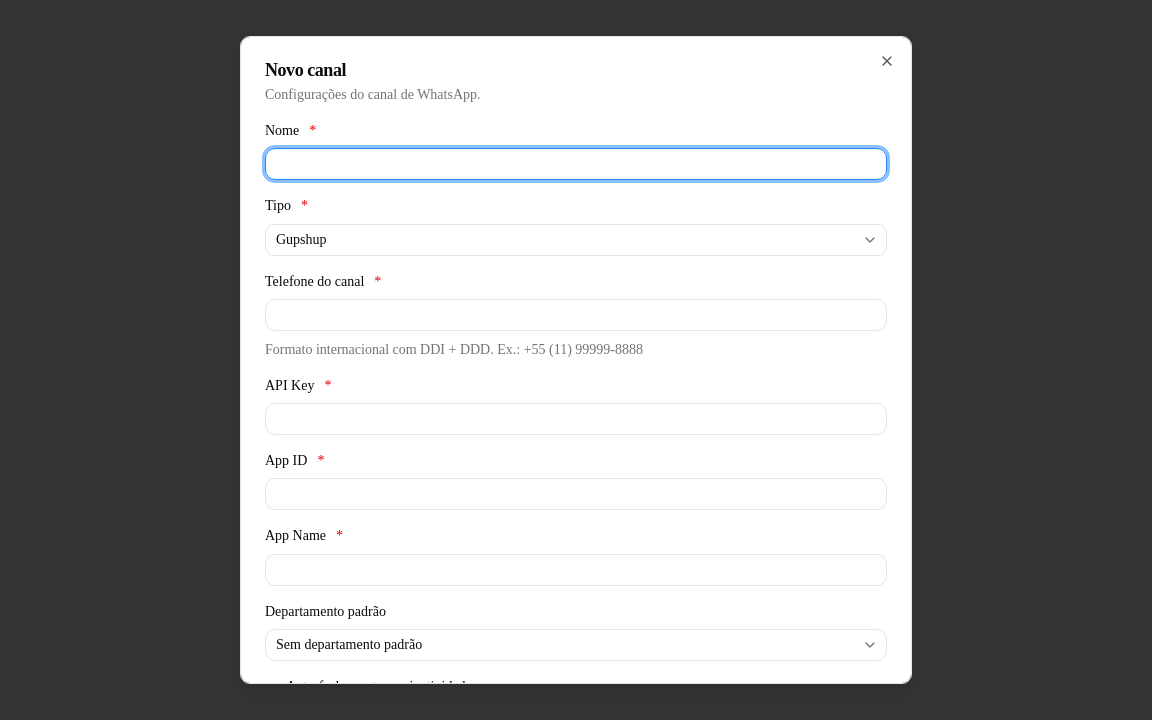
Test case: ChannelDialogView › máscara do telefone descarta caracteres não-numéricos e exibe formatado
Step 1. Click the field labelled "Telefone do canal *" → x=576, y=315, box [265, 299, 887, 331]
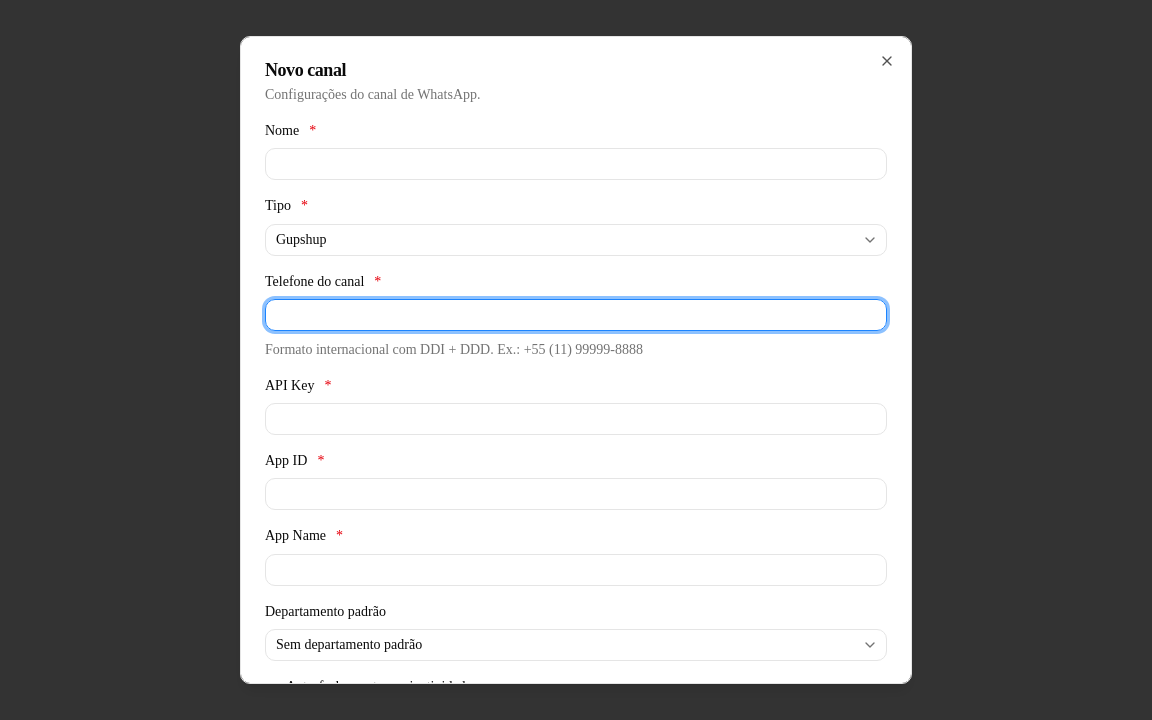
Step 2. Type keys "+55 (11) 99999-8888"
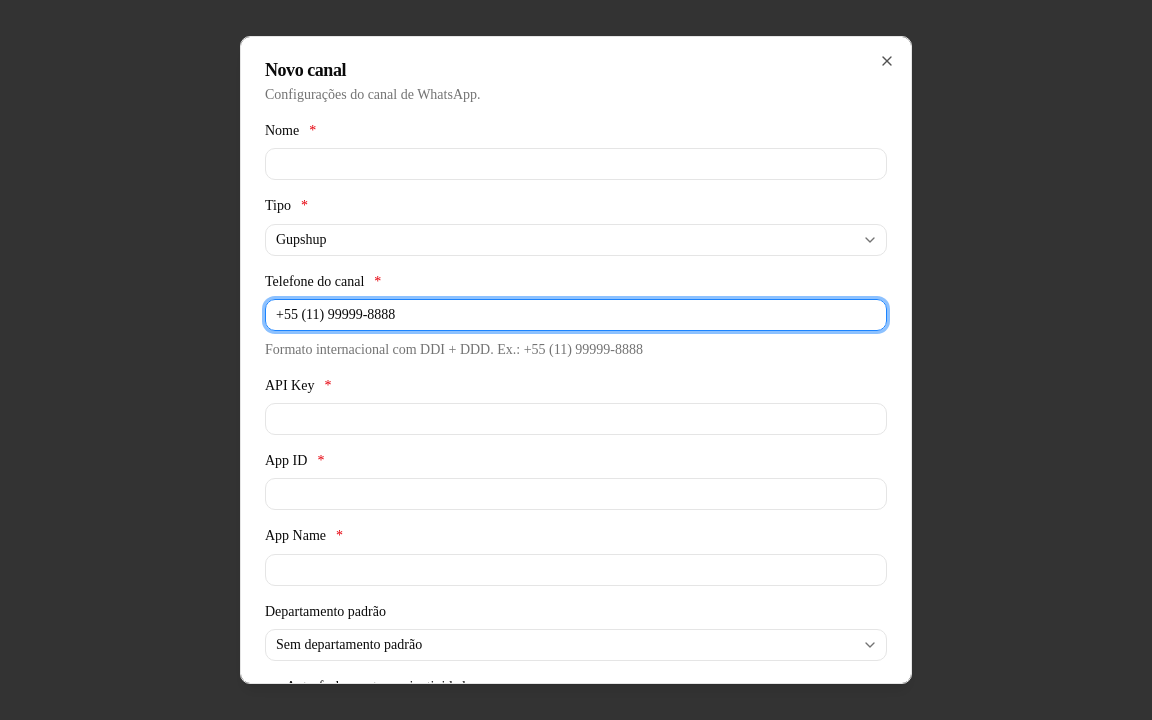
Expected: the field labelled "Telefone do canal *" holds "+55 (11) 99999-8888", [265, 299, 887, 331]
